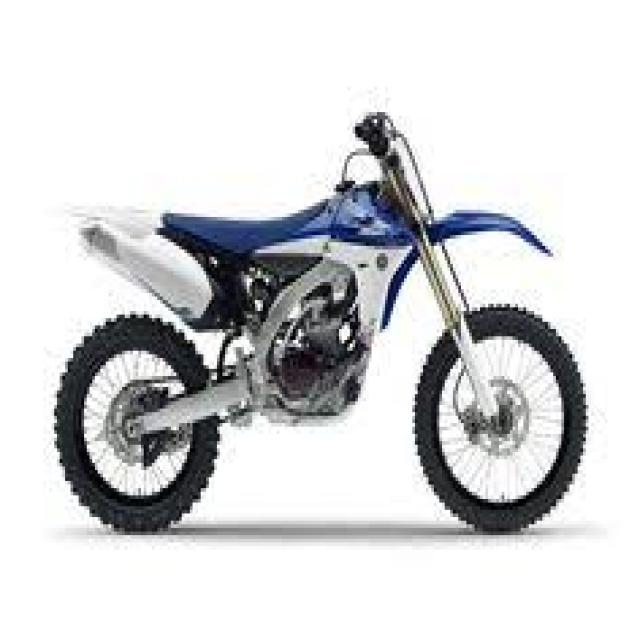bike: (51, 107, 588, 530)
